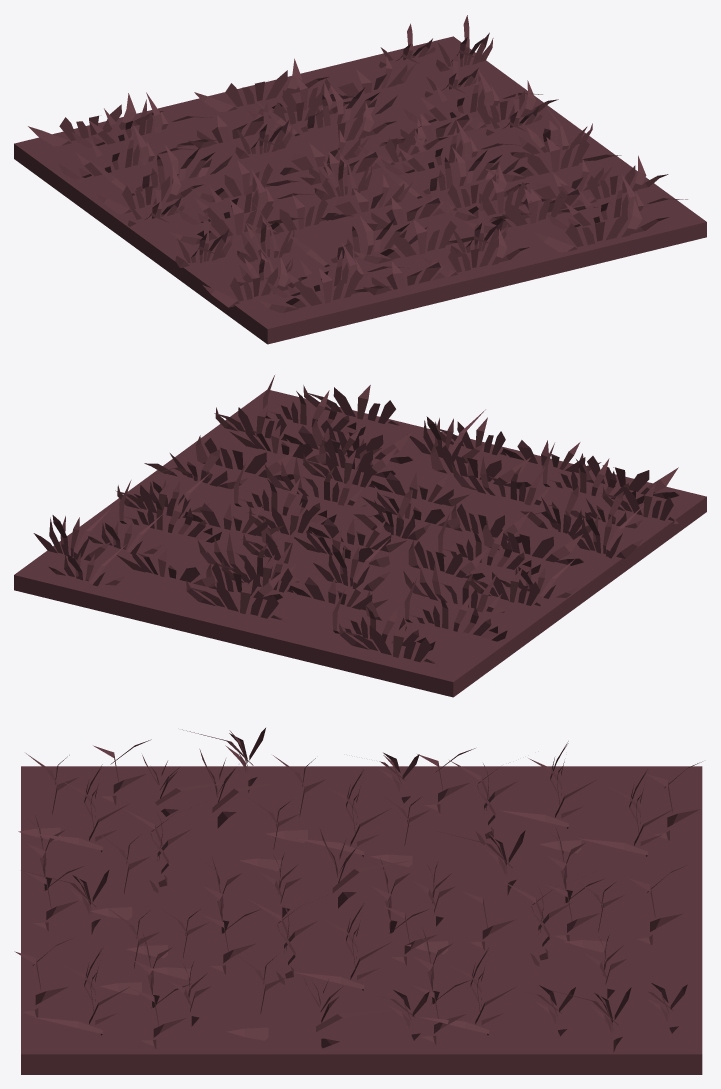
The model's file is nature-floor-grass-3x3m.fbx.
3 views of the same model, one above another, from view 1: azimuth 30°, elevation 25°; view 2: azimuth 150°, elevation 25°; view 3: azimuth 270°, elevation 25° (orthographic). The views are drawn at different scales.
Parts seen in each view (by area): view 1: nature-floor-grass-3x3m; view 2: nature-floor-grass-3x3m; view 3: nature-floor-grass-3x3m.
Part boxes in pixels (x1,y1,x2,y2): nature-floor-grass-3x3m: (14,15,706,344); nature-floor-grass-3x3m: (14,375,706,697); nature-floor-grass-3x3m: (14,728,702,1074).
Size of the model in its own units: 3.18 by 0.3884 by 3.05.
